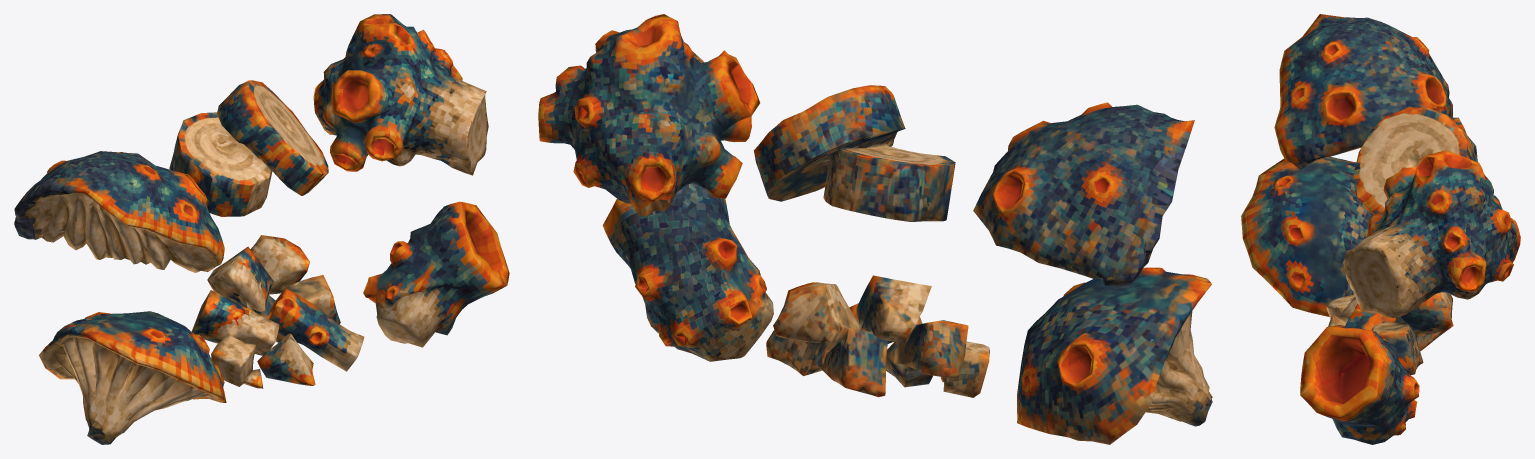
Rendered from fungal_cuts.glb.
3 renders of one model, left to right at view 1: azimuth 30°, elevation 25°; view 2: azimuth 150°, elevation 25°; view 3: azimuth 270°, elevation 25°, orthographic. The views are drawn at different scales.
Parts seen in each view (by area): view 1: tripo_node_8ef69e8e-21cf-420a-a404-409bbab5240a; view 2: tripo_node_8ef69e8e-21cf-420a-a404-409bbab5240a; view 3: tripo_node_8ef69e8e-21cf-420a-a404-409bbab5240a.
Part boxes in pixels (x1,y1,x2,y2): tripo_node_8ef69e8e-21cf-420a-a404-409bbab5240a: (14,14,509,444); tripo_node_8ef69e8e-21cf-420a-a404-409bbab5240a: (538,14,1212,444); tripo_node_8ef69e8e-21cf-420a-a404-409bbab5240a: (1241,14,1520,444).
Size of the model in its own units: 0.9795 by 0.5724 by 0.5122.
Materials: 1 (1 with a texture image).
